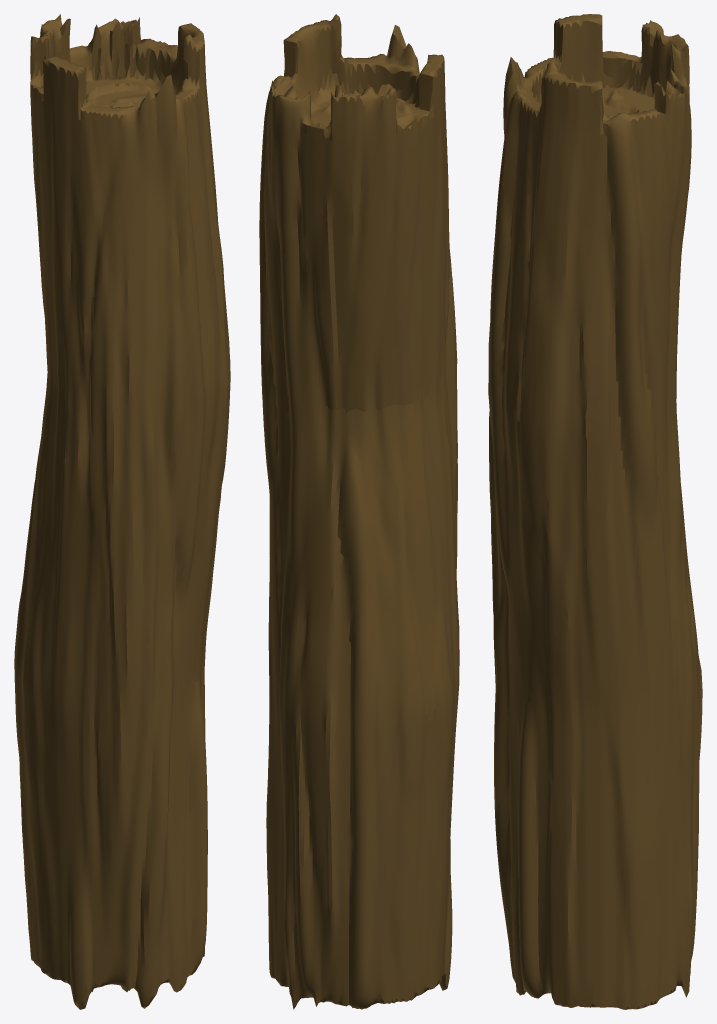
Rendered from Trunk.fbx.
The picture shows the model from 3 angles, left to right: view 1: azimuth 30°, elevation 25°; view 2: azimuth 150°, elevation 25°; view 3: azimuth 270°, elevation 25°; orthographic projection.
Parts seen in each view (by area): view 1: TreeTrunk; view 2: TreeTrunk; view 3: TreeTrunk.
Part boxes in pixels (bbox=[...]): TreeTrunk: bbox=[14, 14, 230, 1009]; TreeTrunk: bbox=[259, 14, 459, 1009]; TreeTrunk: bbox=[488, 14, 702, 1009].
Bounding box in the file's own units: 2.36 × 2.46 × 12.13.
